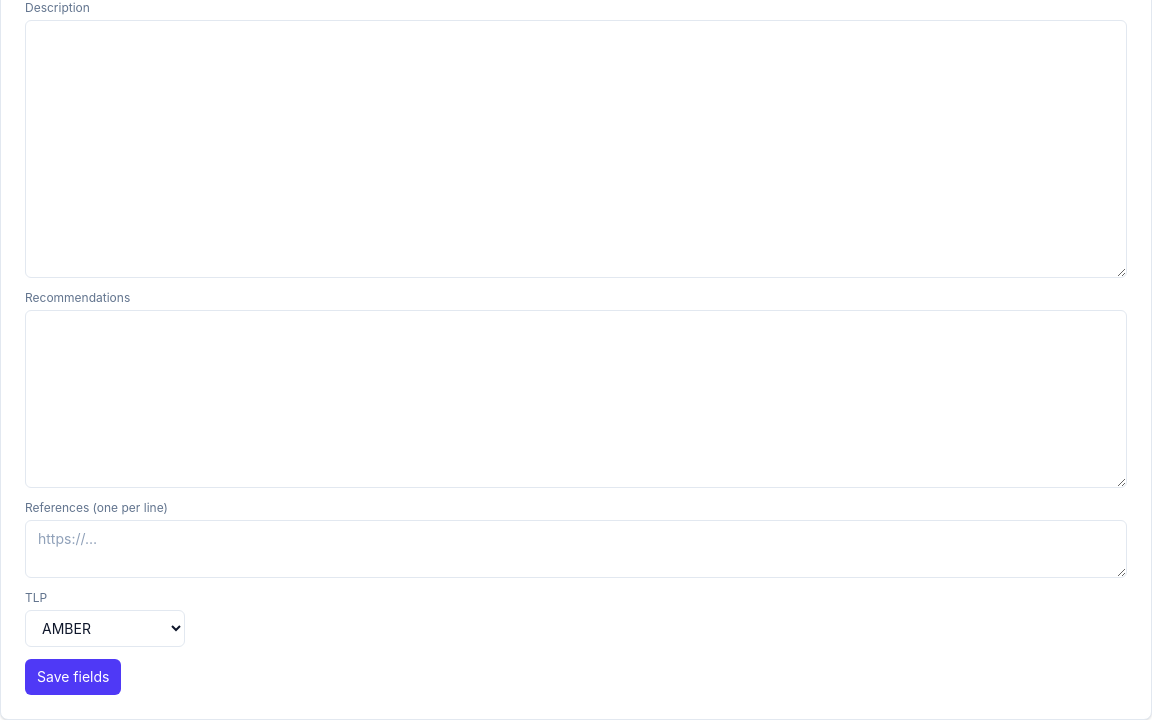
it: FE-FLD-01: final-fields form › shows a saved confirmation after a successful PATCH
(page scrolled)
Click the button "Save fields": [73, 677] box x1=25 y1=659 x2=121 y2=695
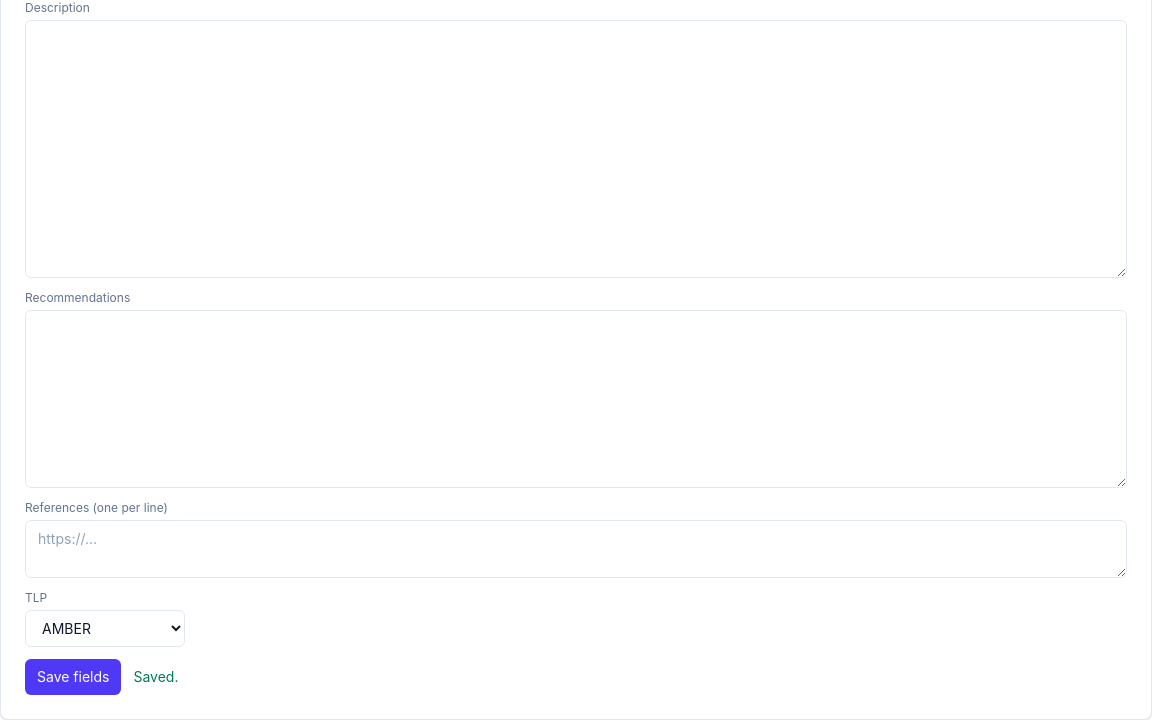
Expected: the text "Saved." is shown, x1=133 y1=667 x2=178 y2=687
